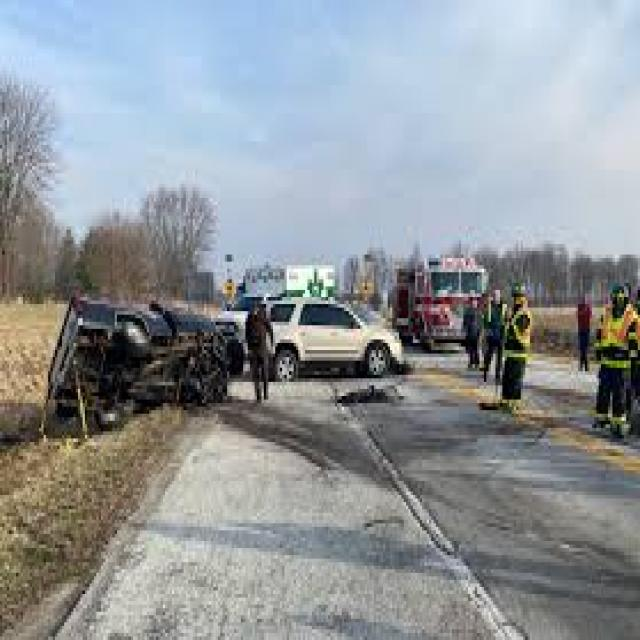accident: (52, 253, 235, 434)
